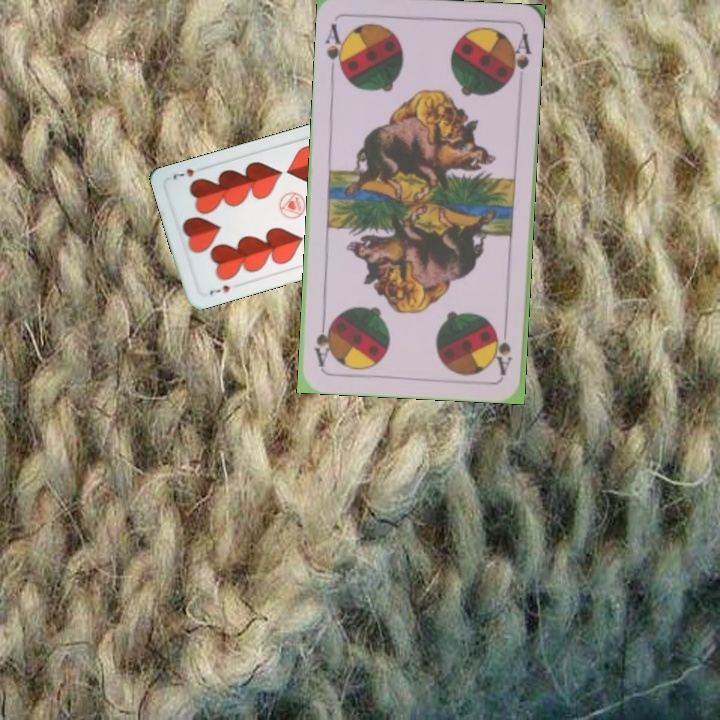H7: (206, 281, 232, 297)
SA: (321, 20, 349, 78), (491, 318, 514, 377)
